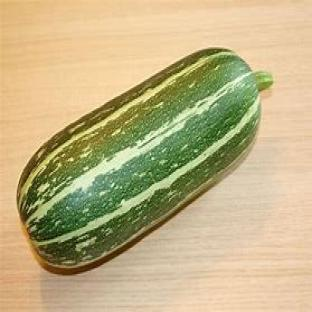Zucchini: (17, 49, 272, 267)
